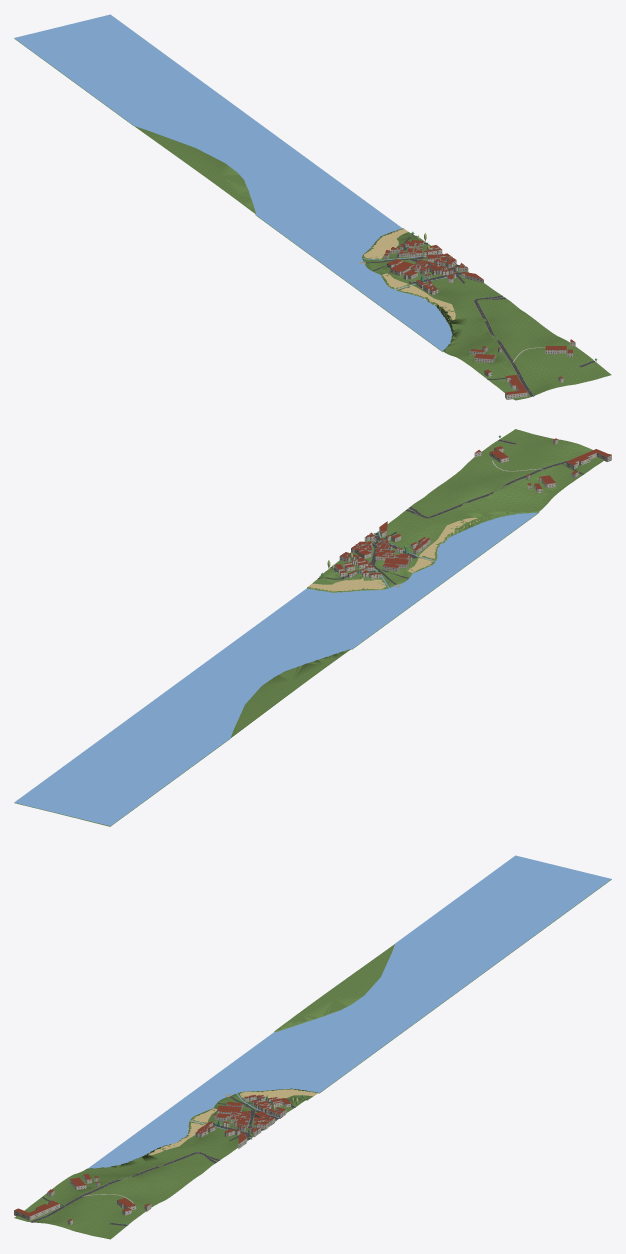
File: Tile_X1_Y0.glb
3 views of the same model, one above another, from view 1: azimuth 30°, elevation 25°; view 2: azimuth 150°, elevation 25°; view 3: azimuth 330°, elevation 25° (orthographic).
Parts seen in each view (by area): view 1: water_-1_121, Terrain, beach_370053438_136, beach_370053439_137; view 2: water_-1_121, Terrain, beach_370053438_136, beach_370053439_137; view 3: water_-1_121, Terrain.
Boxes of the visible parts, box(x1,y1,x2,y2) form: water_-1_121: box(14, 14, 452, 351); Terrain: box(14, 38, 611, 400); beach_370053438_136: box(381, 273, 455, 321); beach_370053439_137: box(362, 229, 408, 258); water_-1_121: box(14, 512, 538, 825); Terrain: box(14, 429, 611, 826); beach_370053438_136: box(407, 517, 479, 572); beach_370053439_137: box(308, 578, 385, 592); water_-1_121: box(88, 855, 611, 1168); Terrain: box(14, 879, 611, 1239).
Bounding box in the file's own units: 212 × 26.44 × 1801.
14 materials, 7 textured.
